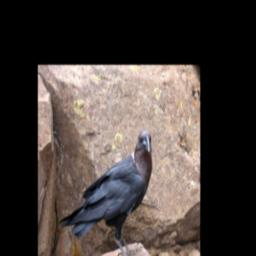Crow: (58, 129, 153, 256)
